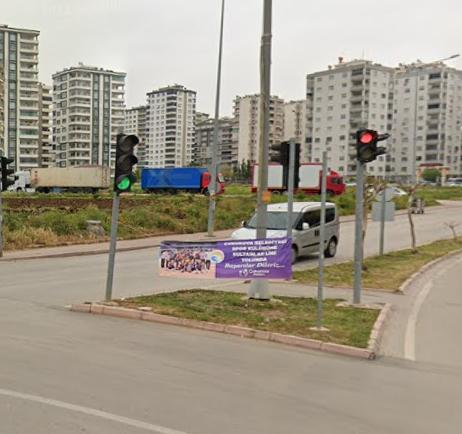greenlight: (115, 133, 138, 193)
redlight: (355, 125, 381, 166)
